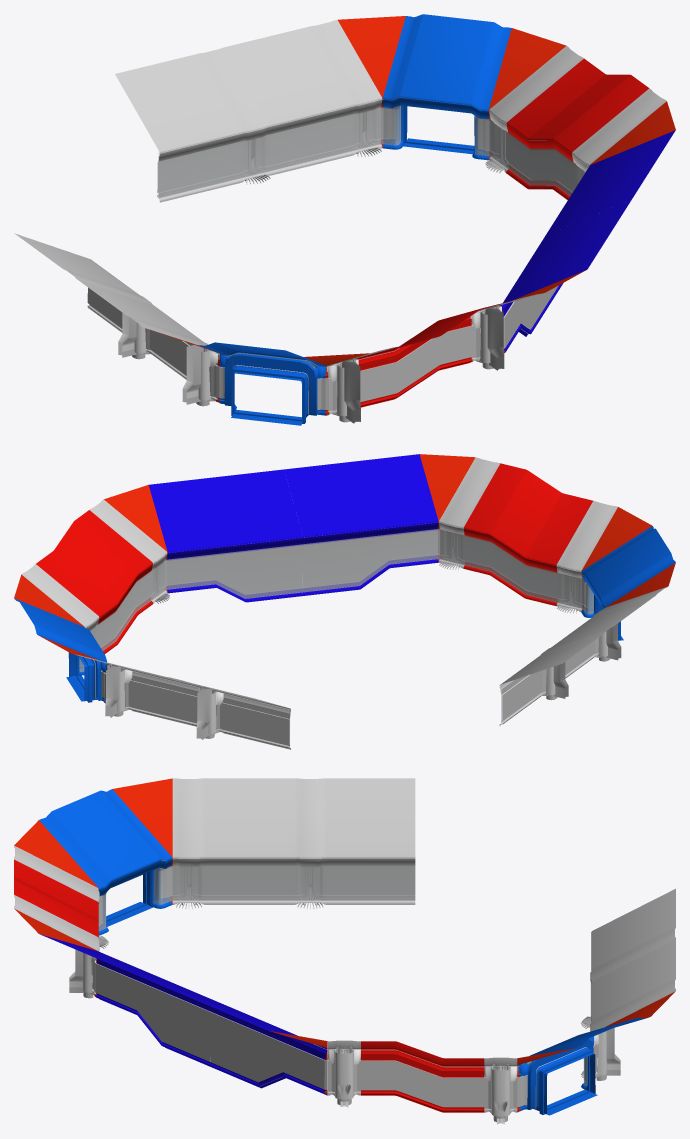
File: SM_OuterWallsALL.fbx
3 renders of one model, top to bottom at view 1: azimuth 30°, elevation 25°; view 2: azimuth 150°, elevation 25°; view 3: azimuth 270°, elevation 25°, orthographic. The views are drawn at different scales.
Parts seen in each view (by area): view 1: OuterWallDip1; view 2: OuterWallDip1; view 3: OuterWallDip1.
Part boxes in pixels (x1,y1,x2,y2): OuterWallDip1: (14, 14, 675, 425); OuterWallDip1: (14, 454, 675, 749); OuterWallDip1: (14, 778, 675, 1124).
Size of the model in its own units: 25951 by 4804 by 25951.
